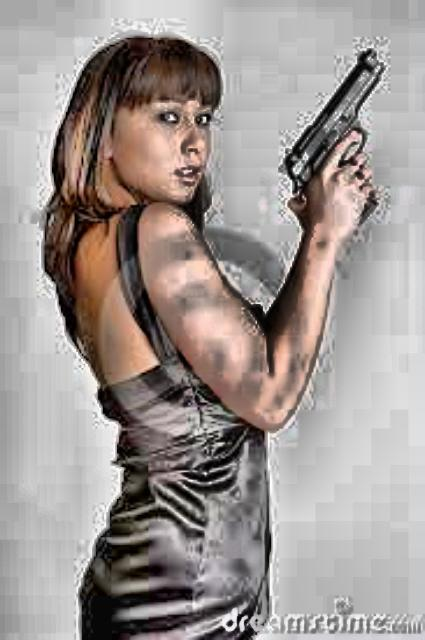pistol: (263, 38, 391, 216)
